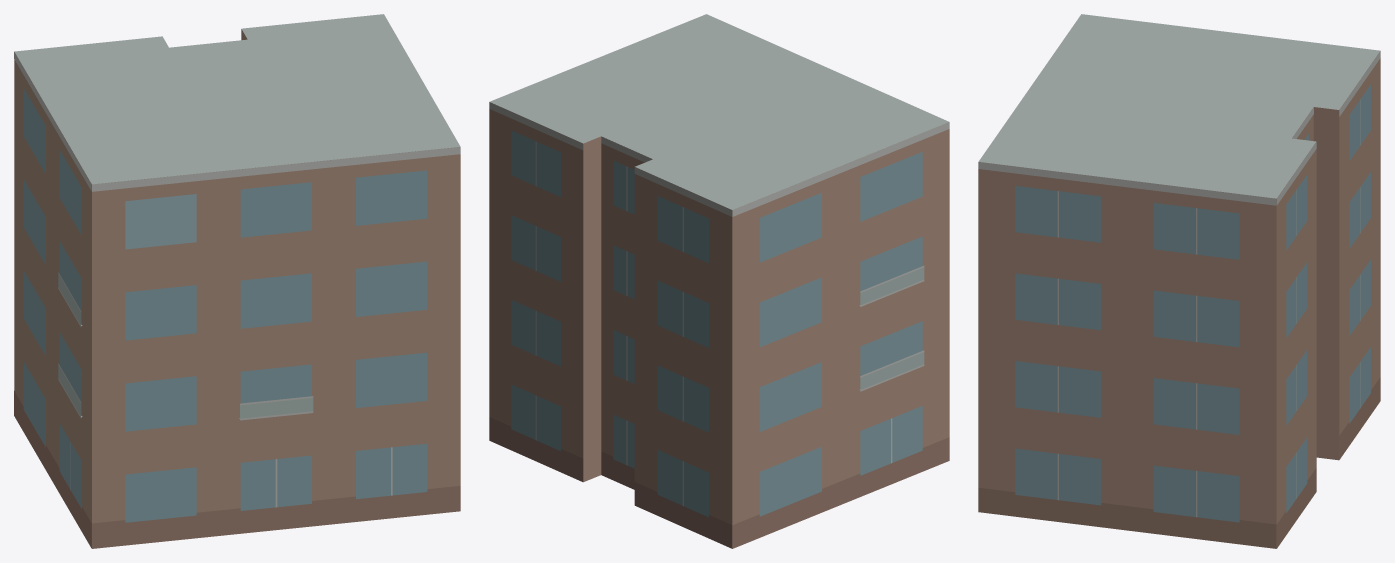
File: survey-upis-32874842.glb
3 views of the same model, side by side, from view 1: azimuth 30°, elevation 25°; view 2: azimuth 150°, elevation 25°; view 3: azimuth 270°, elevation 25° (orthographic). The views are drawn at different scales.
Visible parts, largest first — view 1: survey-upis-32874842.tmp; view 2: survey-upis-32874842.tmp; view 3: survey-upis-32874842.tmp.
Part boxes in pixels (x1,y1,x2,y2): survey-upis-32874842.tmp: (14,14,460,548); survey-upis-32874842.tmp: (489,14,949,548); survey-upis-32874842.tmp: (978,14,1380,548).
Size of the model in its own units: 13.58 by 12 by 12.5.
